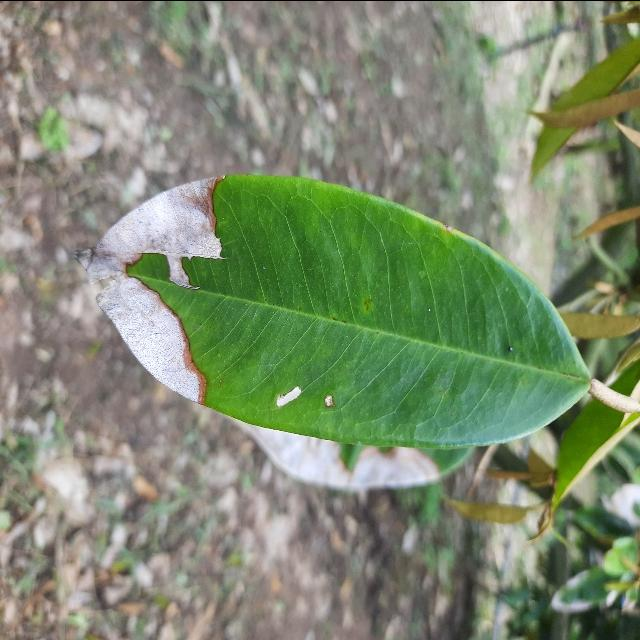Leaf Blight: (69, 169, 599, 491)
